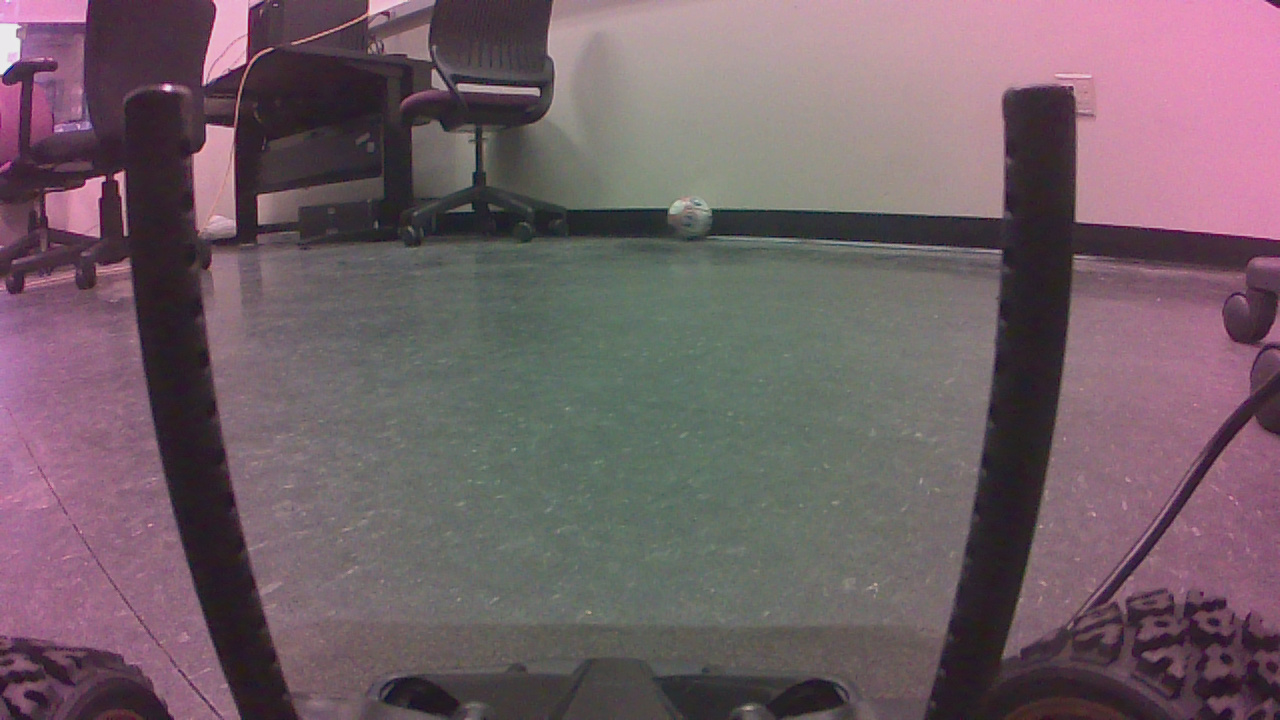ball: (671, 199, 720, 248)
